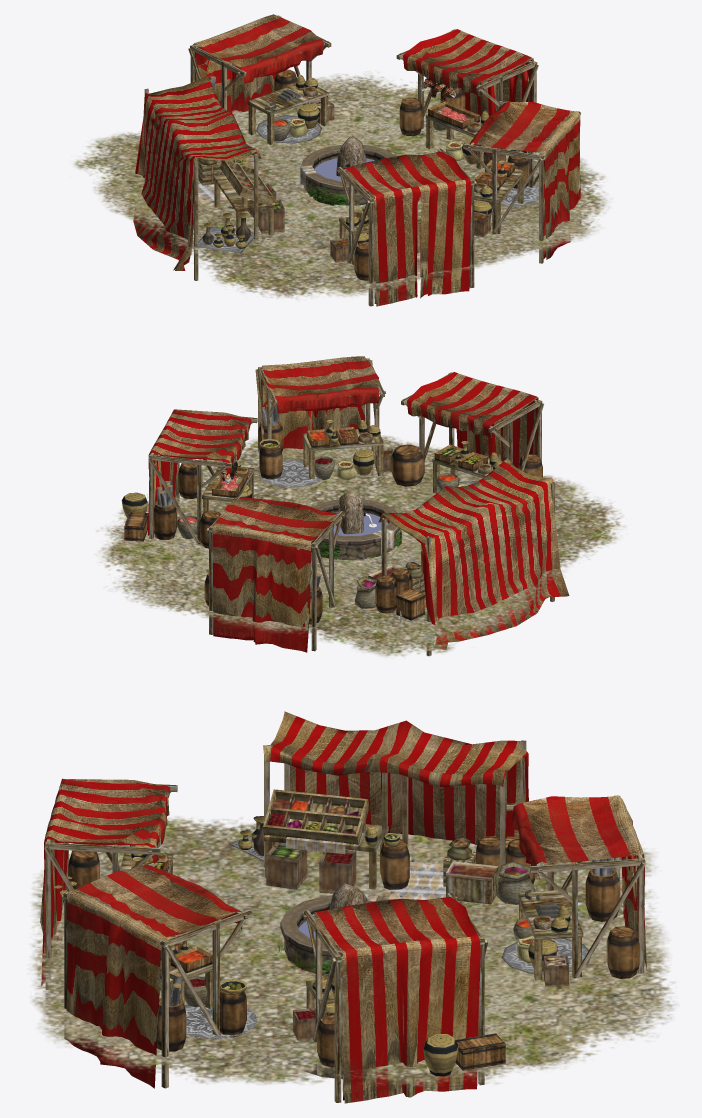
3 views of the same model, one above another, from view 1: azimuth 30°, elevation 25°; view 2: azimuth 150°, elevation 25°; view 3: azimuth 270°, elevation 25° (orthographic). The views are drawn at different scales.
Parts seen in each view (by area): view 1: Plane, struct.002, struct.003, struct.006, struct.004, struct.005, struct, struct.001; view 2: Plane, struct.002, struct.006, struct.004, struct.003, struct.005, struct; view 3: Plane, struct.002, struct.005, struct.004, struct.006, struct.003, struct.
Part boxes in pixels (<box>): Plane: <box>74,73,609,299</box>; struct.002: <box>128,76,284,280</box>; struct.003: <box>330,148,476,306</box>; struct.006: <box>188,14,334,144</box>; struct.004: <box>463,100,581,263</box>; struct.005: <box>396,29,538,169</box>; struct: <box>300,136,396,205</box>; struct.001: <box>306,184,355,205</box>; Plane: <box>97,435,625,656</box>; struct.002: <box>354,458,569,656</box>; struct.006: <box>204,495,344,652</box>; struct.004: <box>255,356,393,487</box>; struct.003: <box>391,372,544,493</box>; struct.005: <box>121,409,257,548</box>; struct: <box>311,492,399,631</box>; Plane: <box>31,816,676,1086</box>; struct.002: <box>228,711,547,904</box>; struct.005: <box>293,893,505,1103</box>; struct.004: <box>61,862,257,1088</box>; struct.006: <box>502,795,646,986</box>; struct.003: <box>40,778,177,989</box>; struct: <box>280,883,388,1079</box>.
Bounding box in the file's own units: 24 × 8.81 × 24.
9 materials, 7 textured.
